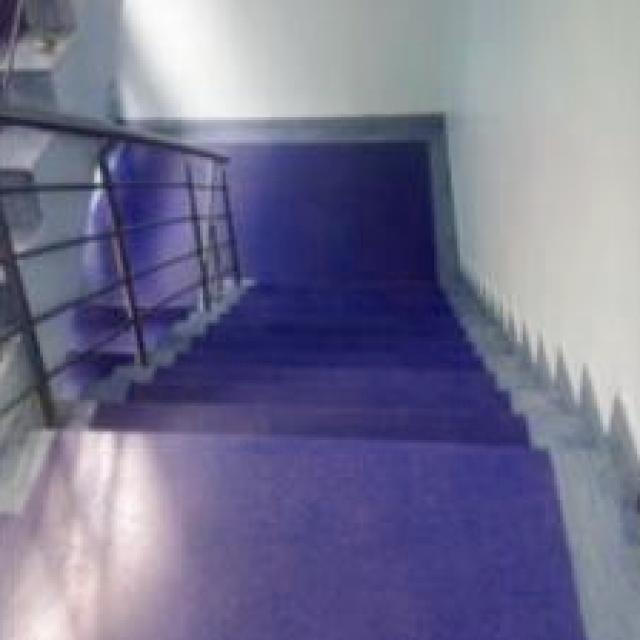downstair: (81, 327, 578, 524)
